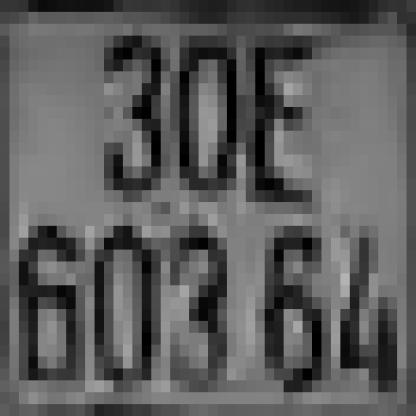0: (170, 36, 236, 202), (95, 214, 160, 380)
3: (104, 36, 170, 202)
4: (331, 214, 397, 380)
6: (256, 214, 322, 380), (19, 214, 76, 380)
E: (236, 36, 312, 202)
